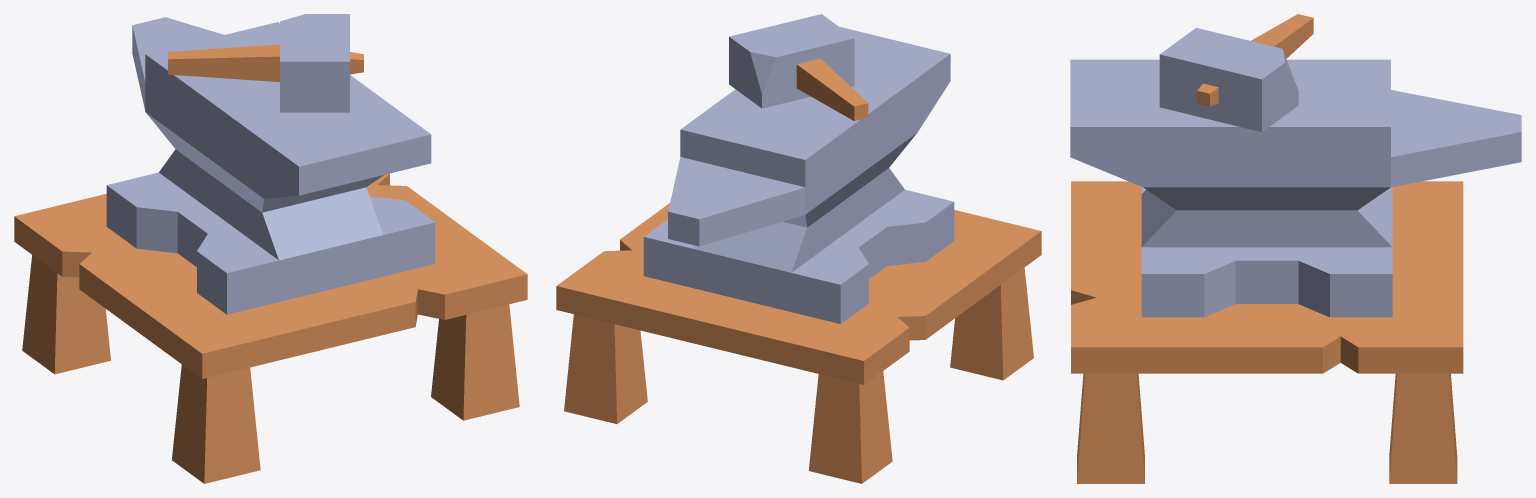
File: workbenchAnvil.dae
3 views of the same model, side by side, from view 1: azimuth 30°, elevation 25°; view 2: azimuth 150°, elevation 25°; view 3: azimuth 270°, elevation 25° (orthographic). The views are drawn at different scales.
Parts seen in each view (by area): view 1: workbenchAnvil, hammer; view 2: workbenchAnvil, hammer; view 3: workbenchAnvil, hammer.
Boxes of the visible parts, <box> form: workbenchAnvil: <box>14,17,527,483</box>; hammer: <box>168,14,363,112</box>; workbenchAnvil: <box>556,26,1041,483</box>; hammer: <box>729,14,868,120</box>; workbenchAnvil: <box>1070,59,1521,483</box>; hammer: <box>1159,14,1313,132</box>.
Size of the model in its own units: 1.08 by 1.1 by 1.24.
